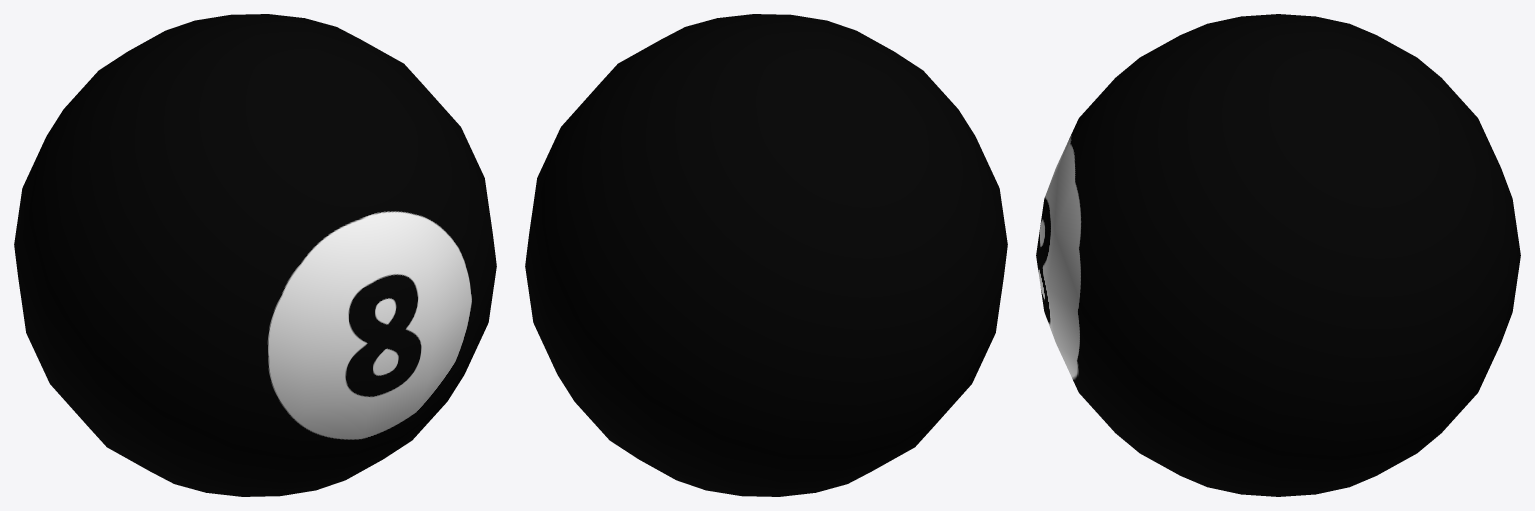
Rendered from billboard8.fbx.
3 views of the same model, side by side, from view 1: azimuth 30°, elevation 25°; view 2: azimuth 150°, elevation 25°; view 3: azimuth 270°, elevation 25° (orthographic).
Visible parts, largest first — view 1: pSphere1; view 2: pSphere1; view 3: pSphere1.
Boxes of the visible parts, <box> form: pSphere1: <box>14,14,496,496</box>; pSphere1: <box>525,14,1007,496</box>; pSphere1: <box>1036,14,1520,496</box>.
Size of the model in its own units: 10 by 10 by 10.
